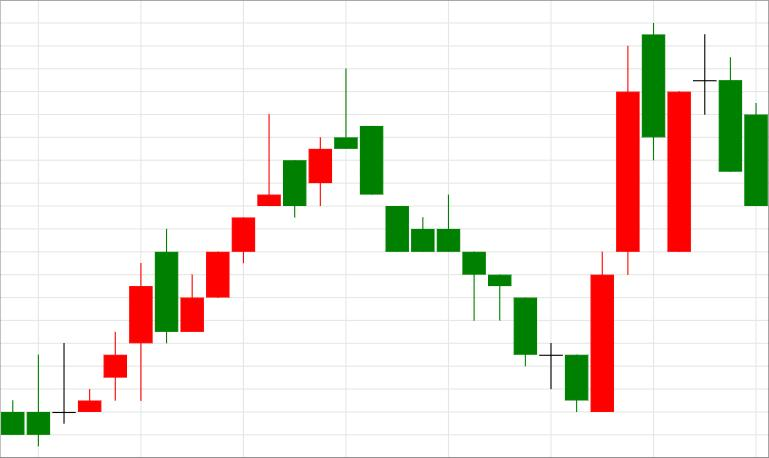bullish_engulfing_rise: (334, 69, 614, 413)
